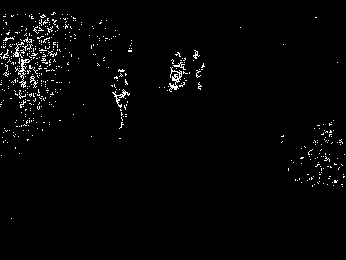person: (111, 67, 129, 131), (193, 51, 206, 92)
